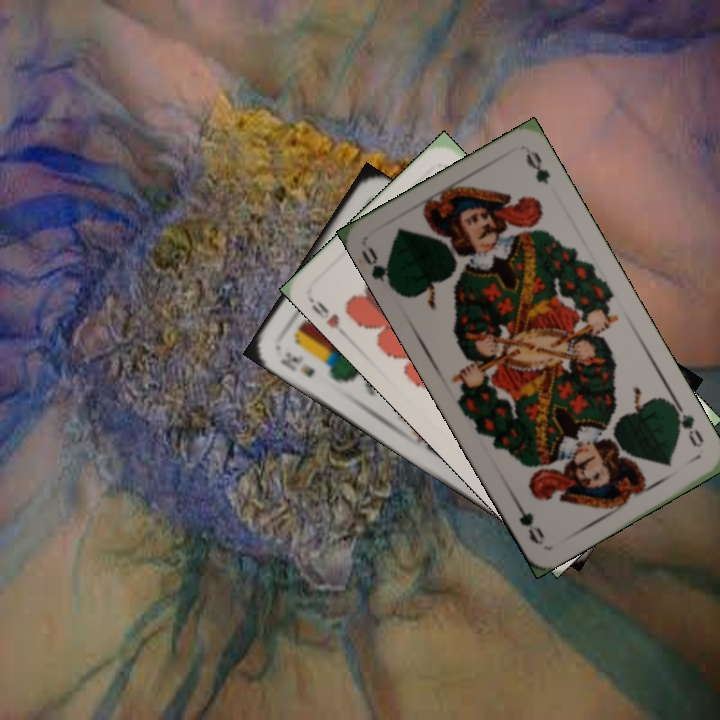EK: (275, 348, 317, 380)
GO: (357, 243, 399, 294), (669, 398, 707, 451)
H9: (305, 294, 351, 341)
